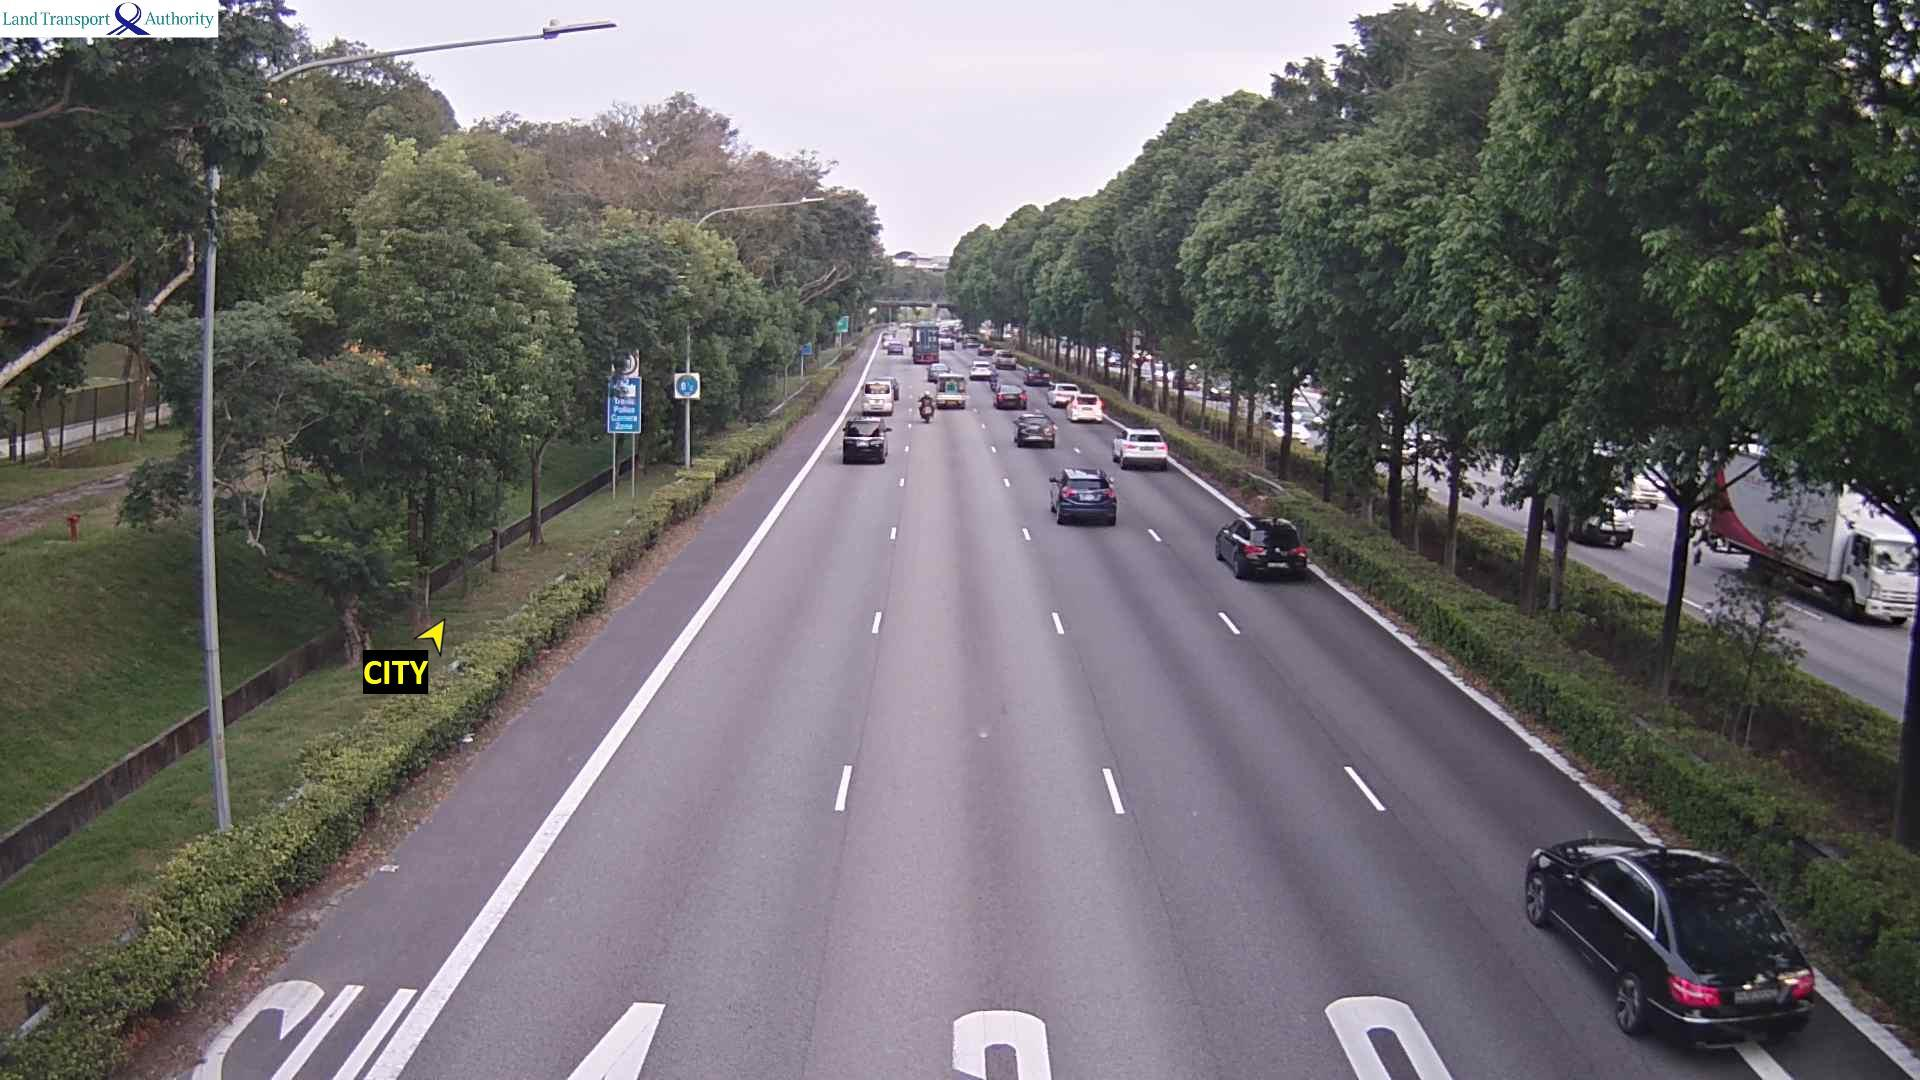cars: (1522, 833, 1815, 1054), (1215, 514, 1308, 580), (1542, 489, 1633, 549), (1048, 465, 1117, 525), (1263, 406, 1324, 448), (1112, 426, 1168, 469), (840, 415, 887, 463), (1013, 410, 1056, 447), (934, 373, 969, 409), (1619, 480, 1660, 510), (1065, 392, 1104, 422), (860, 381, 894, 414), (992, 381, 1026, 409), (1046, 380, 1077, 407), (869, 376, 899, 400), (968, 357, 996, 380), (1023, 365, 1052, 385), (926, 363, 948, 382), (992, 349, 1015, 368), (938, 334, 955, 349), (976, 342, 993, 357), (887, 340, 903, 356), (964, 332, 976, 348), (882, 336, 895, 347)
motorcycle: (916, 394, 934, 422)
trucks: (1702, 439, 1917, 625), (911, 323, 939, 364)
